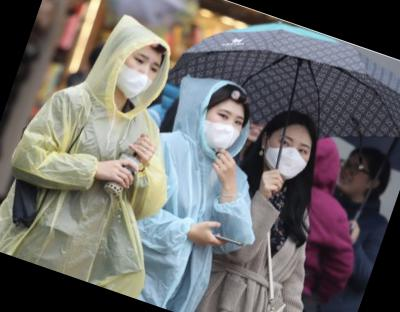with_mask: (257, 127, 316, 186), (111, 45, 166, 108), (197, 101, 250, 158)
without_mask: (331, 152, 374, 199)
